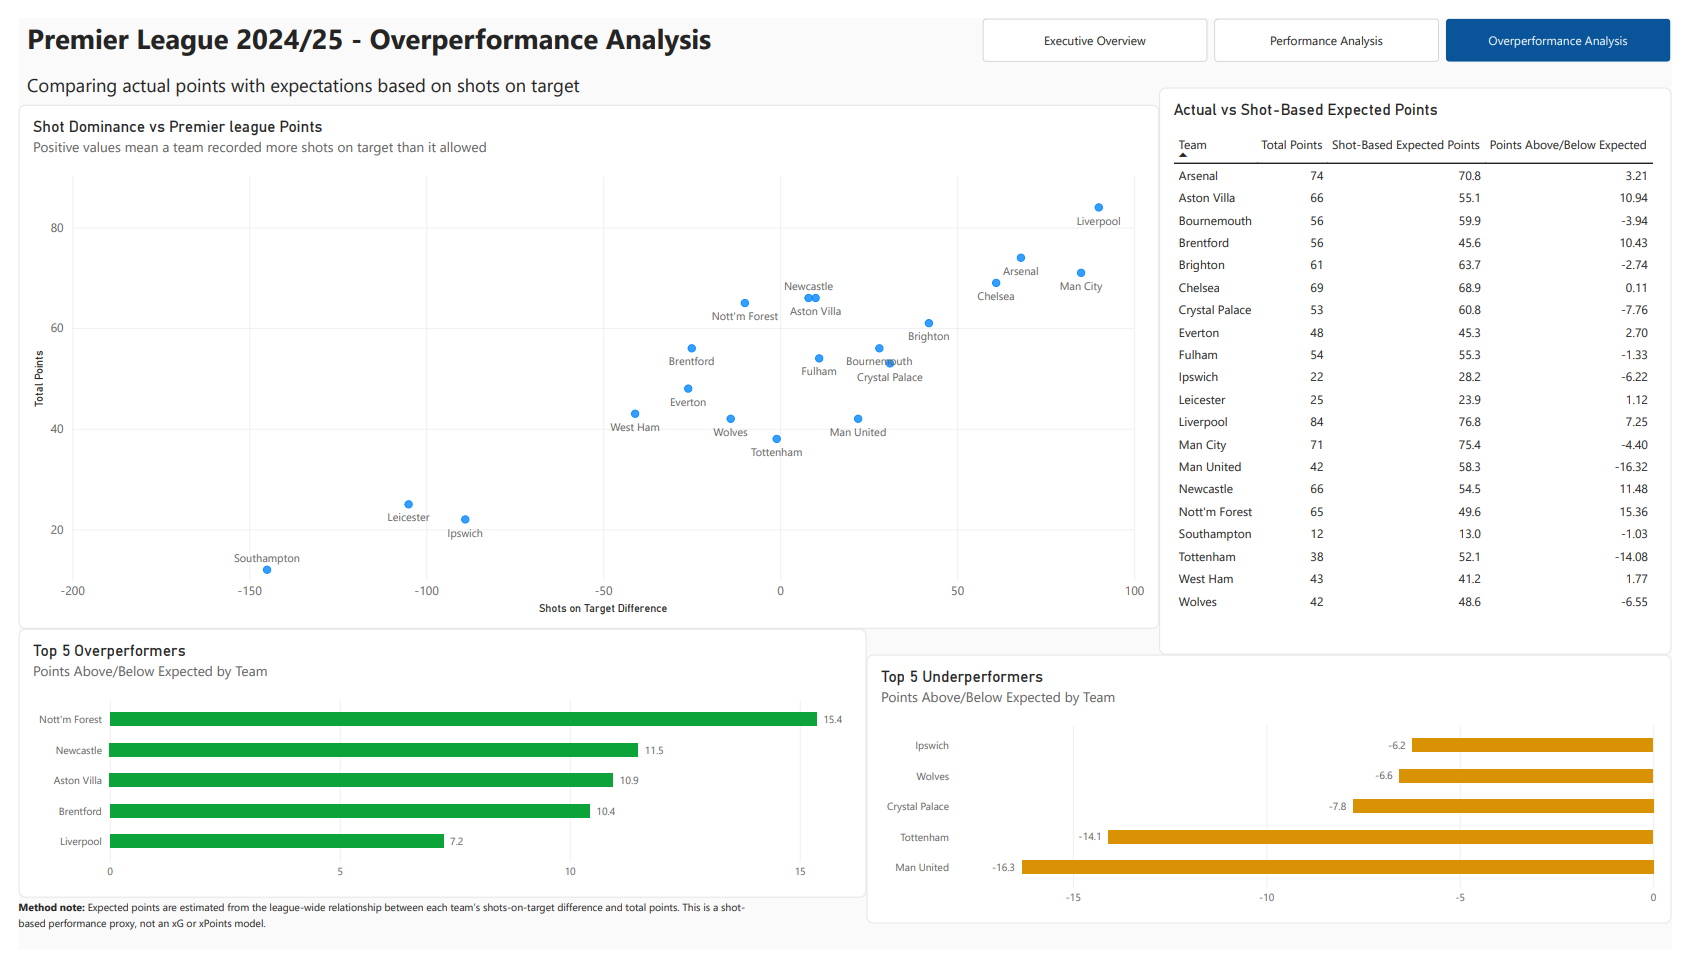

The page's visual inventory and layout, read from the dashboard file:
{"tool":"powerbi","page":{"name":"Overperformance Analysis","canvas":[1920,1080],"ordinal":2},"visuals":[{"type":"textbox","box":[9.7,0,870.1,99.4],"z":0},{"type":"scatterChart","title":"Shot Dominance vs Premier league Points","fields":{"Category":["Team_Match_Data.Team"],"X":["Team_Match_Data.Shots on Target Difference"],"Y":["Team_Match_Data.Total Points"]},"box":[0,100,1325,607.5],"z":1000},{"type":"tableEx","title":"Actual vs Shot-Based Expected Points","fields":{"Values":["Team_Match_Data.Team","Team_Match_Data.Total Points","Team_Match_Data.Shot-Based Expected Points","Team_Match_Data.Points Above/Below Expected"]},"box":[1325,80,595,657.5],"z":2000},{"type":"clusteredBarChart","title":"Top 5 Overperformers","fields":{"Category":["Team_Match_Data.Team"],"Y":["Team_Match_Data.Points Above/Below Expected"]},"box":[0,707.5,985,312.5],"z":3000},{"type":"clusteredBarChart","title":"Top 5 Underperformers","fields":{"Category":["Team_Match_Data.Team"],"Y":["Team_Match_Data.Points Above/Below Expected"]},"box":[985,737.5,935,312.5],"z":4000},{"type":"textbox","box":[0,1020,847.5,60],"z":5000},{"type":"pageNavigator","box":[1120,0,800,50],"z":6000}]}

Visuals, with their boxes in screenshot pixels (x1, y1, x2, y2), scaled from the page's 1920x1080 canvas onto the 1687x967 screenshot:
textbox: l=9, t=0, r=773, b=89
"Shot Dominance vs Premier league Points" scatterChart: l=0, t=90, r=1164, b=633
"Actual vs Shot-Based Expected Points" tableEx: l=1164, t=72, r=1686, b=660
"Top 5 Overperformers" clusteredBarChart: l=0, t=633, r=865, b=913
"Top 5 Underperformers" clusteredBarChart: l=865, t=660, r=1686, b=940
textbox: l=0, t=913, r=745, b=966
pageNavigator: l=984, t=0, r=1686, b=45
